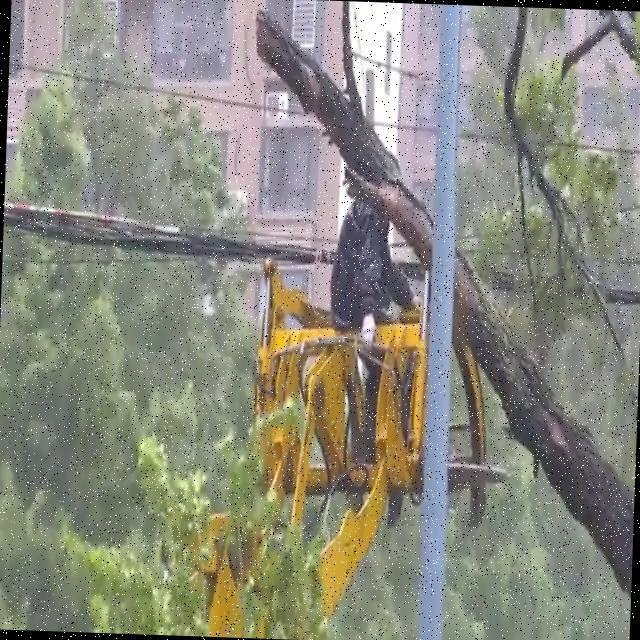fallen_object: (235, 4, 640, 601)
